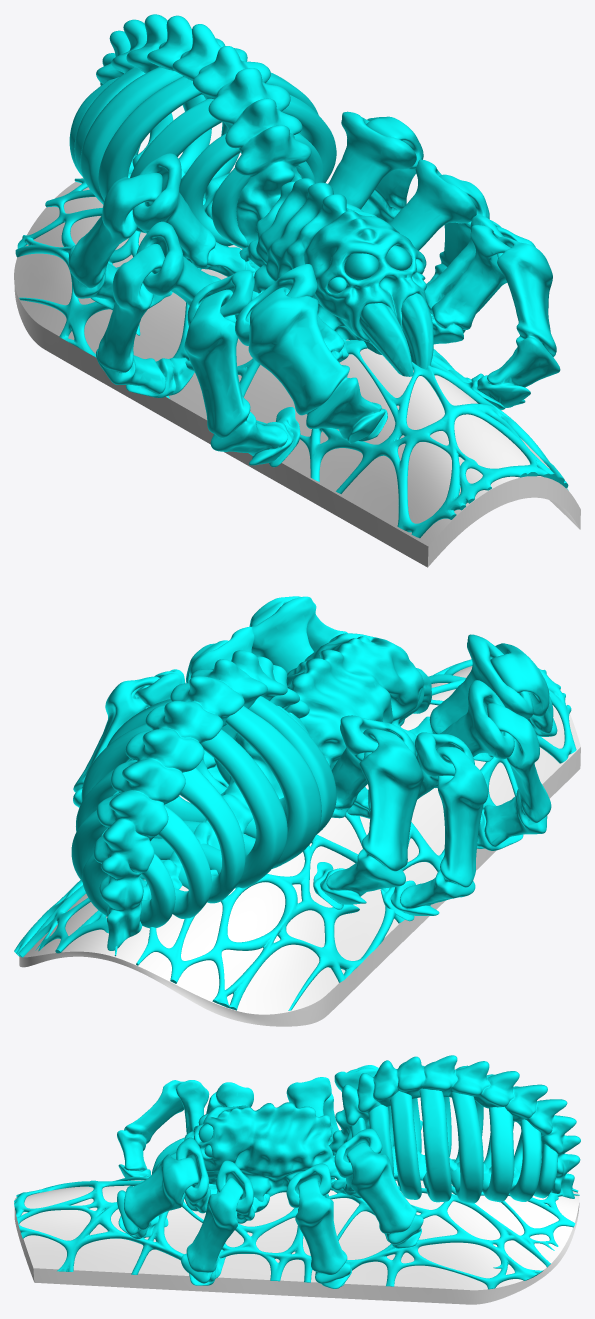
Rendered from crypt-crawler-coffin-web.glb.
The picture shows the model from 3 angles, top to bottom: view 1: azimuth 30°, elevation 25°; view 2: azimuth 150°, elevation 25°; view 3: azimuth 270°, elevation 25°; orthographic projection. The views are drawn at different scales.
Parts seen in each view (by area): view 1: MW 1.0 1742828 US, object 2; view 2: MW 1.0 1742828 US, object 2; view 3: MW 1.0 1742828 US, object 2.
Part boxes in pixels (x1,y1,x2,y2): MW 1.0 1742828 US: (15, 14, 568, 538); object 2: (14, 177, 580, 567); MW 1.0 1742828 US: (14, 596, 576, 1010); object 2: (19, 666, 580, 1026); MW 1.0 1742828 US: (14, 1055, 580, 1289); object 2: (14, 1178, 579, 1304).
Bounding box in the file's own units: 0.018 × 0.0139 × 0.0351.
